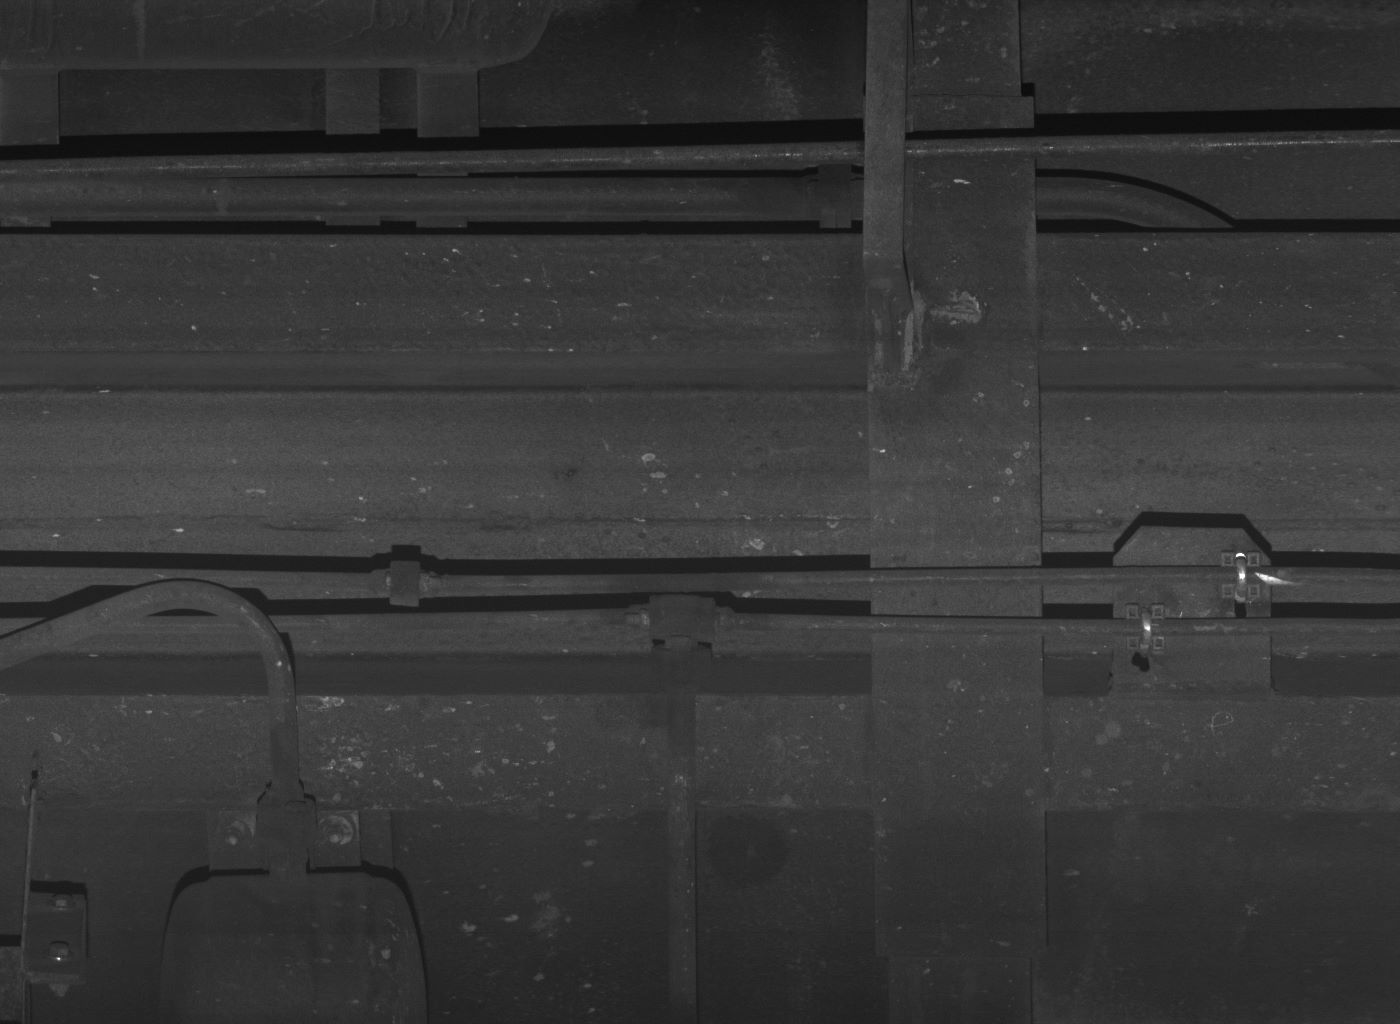normal: (863, 1, 915, 312)
